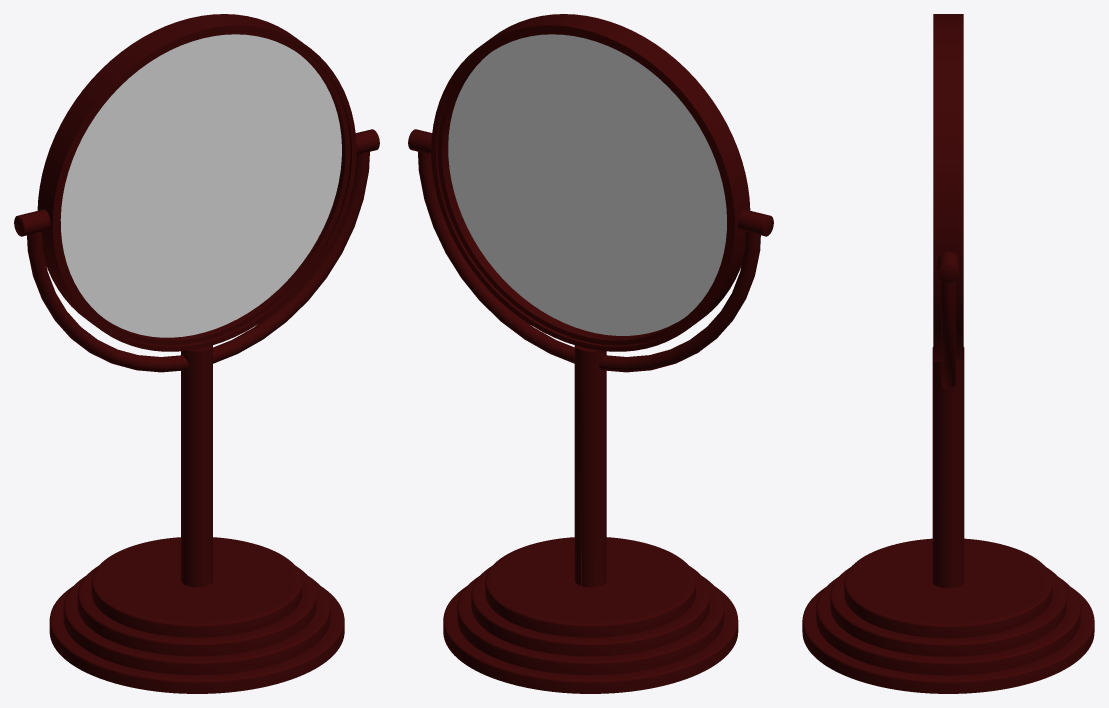
File: Make-up_Mirror.FBX
3 renders of one model, left to right at view 1: azimuth 30°, elevation 25°; view 2: azimuth 150°, elevation 25°; view 3: azimuth 270°, elevation 25°, orthographic.
Parts seen in each view (by area): view 1: Make-up_Mirror_obj_01, Make-up_Mirror_obj_02; view 2: Make-up_Mirror_obj_01, Make-up_Mirror_obj_02; view 3: Make-up_Mirror_obj_01.
Boxes of the visible parts, x1,y1,x2,y2 form: Make-up_Mirror_obj_01: (14,14,379,693); Make-up_Mirror_obj_02: (60,34,341,337); Make-up_Mirror_obj_01: (408,14,773,693); Make-up_Mirror_obj_02: (448,34,726,335); Make-up_Mirror_obj_01: (802,14,1094,693).
Bounding box in the file's own units: 58.51 × 95.5 × 42.
